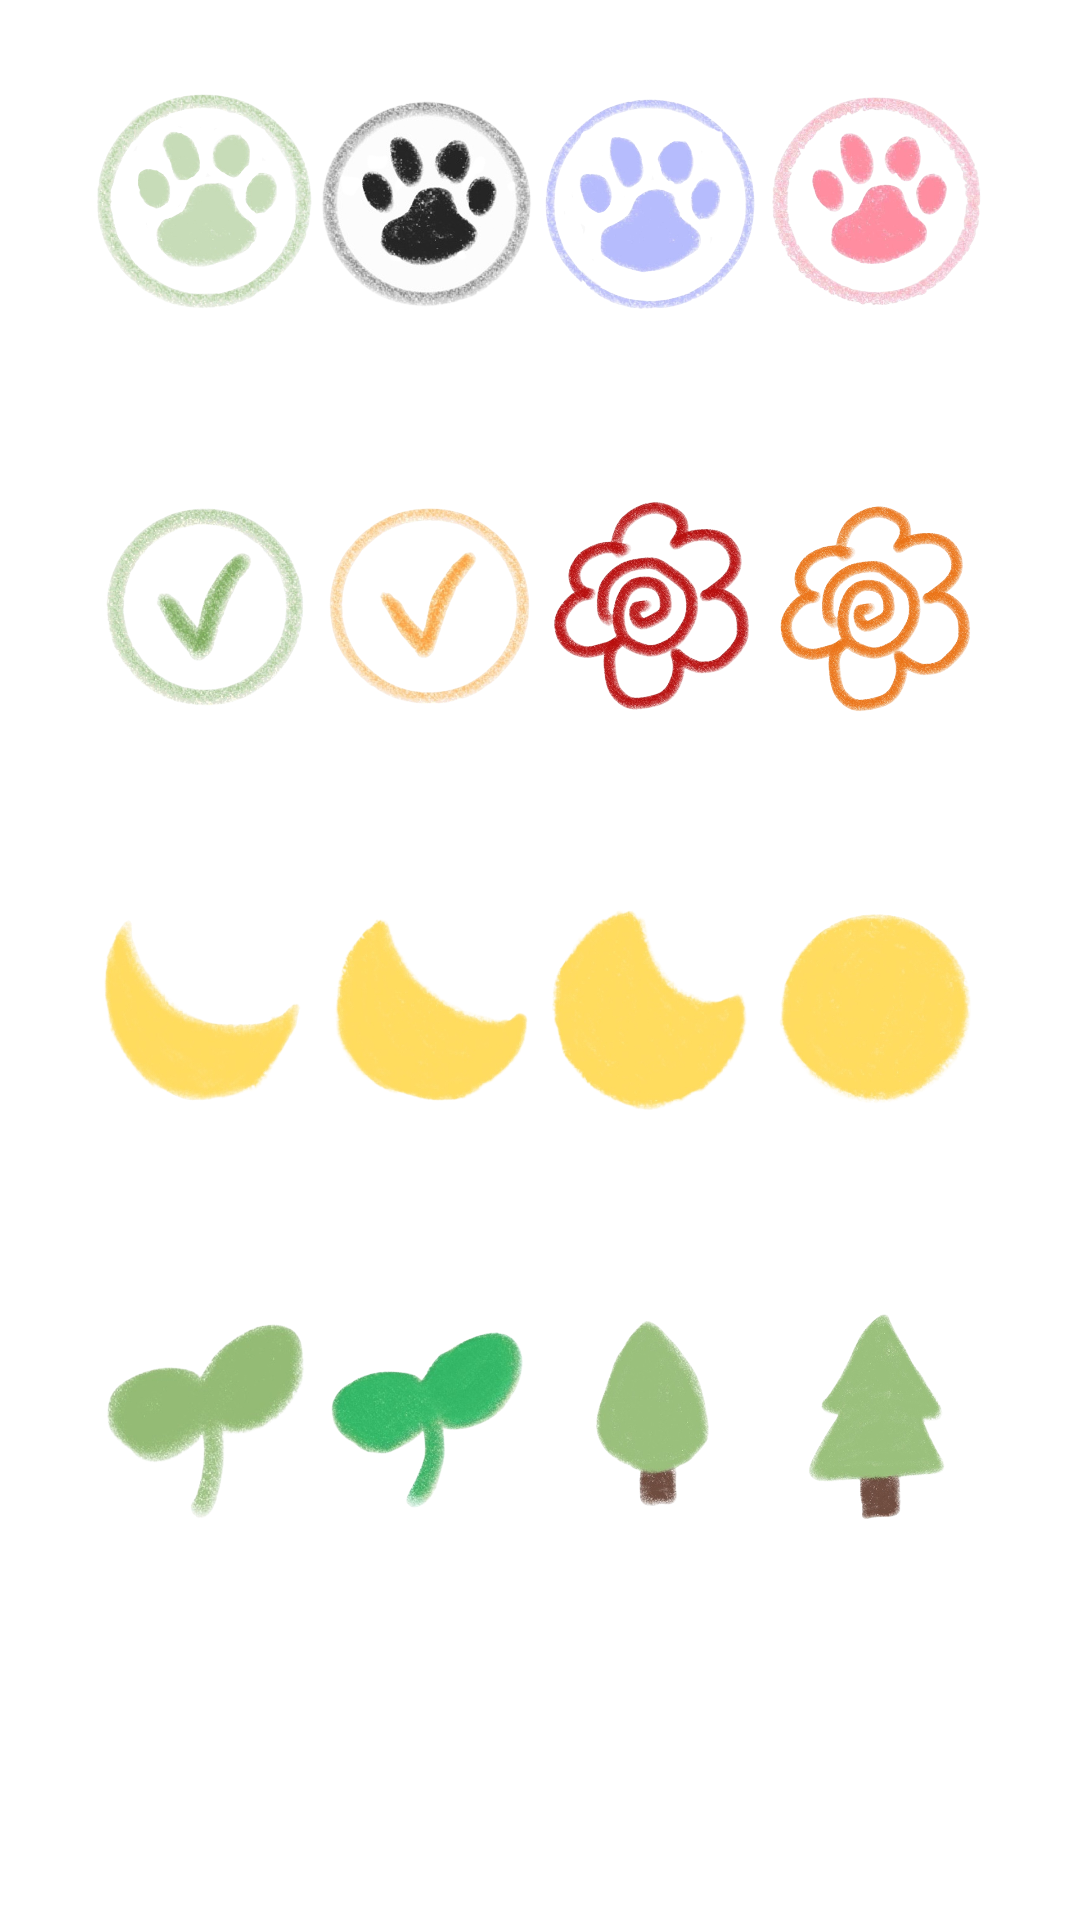

Icons on this 1080*1920 Android screen, each with the point to tap as (x,y):
cat: (204,201), (876,201), (426,203)
check: (429,605), (205,607)
flower: (651,606), (875,608)
moon: (649,1010), (431,1010), (202,1011)
moon full: (875,1007)
sprout: (205,1421), (427,1419)
